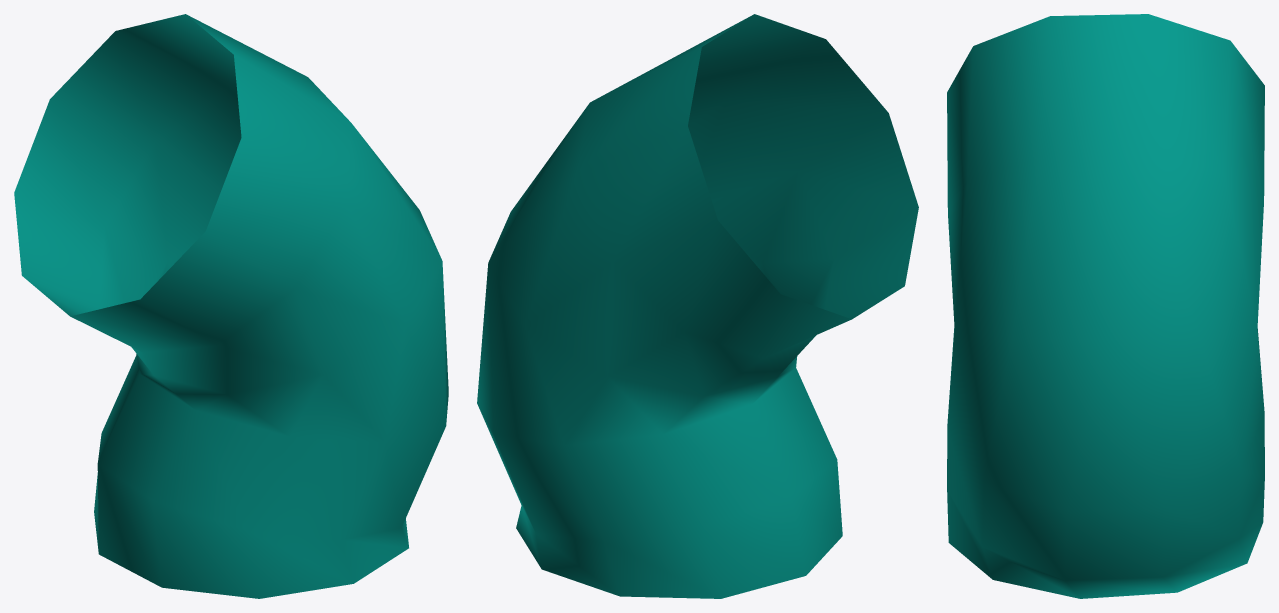
3 views of the same model, side by side, from view 1: azimuth 30°, elevation 25°; view 2: azimuth 150°, elevation 25°; view 3: azimuth 270°, elevation 25° (orthographic). The views are drawn at different scales.
Visible parts, largest first — view 1: TubeRenderer(Clone); view 2: TubeRenderer(Clone); view 3: TubeRenderer(Clone).
Boxes of the visible parts, x1,y1,x2,y2 form: TubeRenderer(Clone): (14, 14, 448, 598); TubeRenderer(Clone): (477, 14, 918, 598); TubeRenderer(Clone): (947, 14, 1264, 598).
Size of the model in its own units: 0.1794 by 0.23 by 0.1332.
